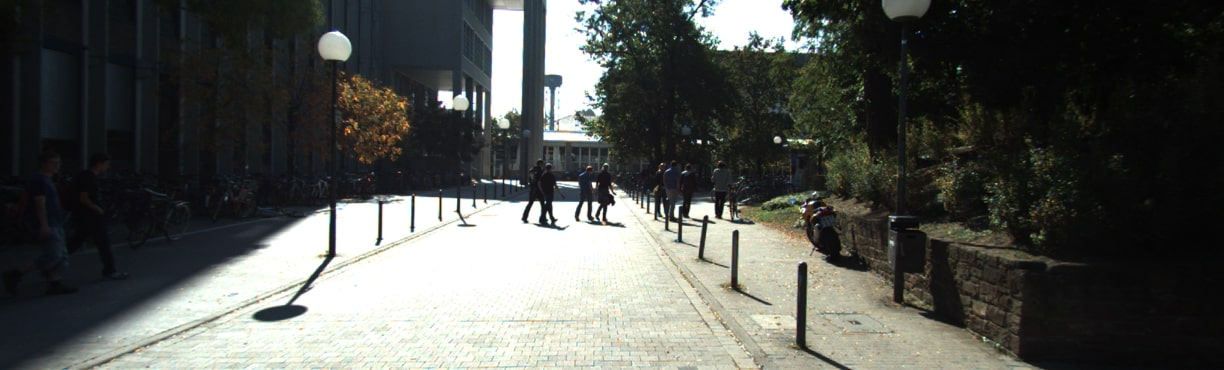Cyclist: (710, 157, 746, 223)
person: (14, 143, 80, 303), (79, 152, 134, 284), (645, 156, 695, 221), (537, 158, 564, 234), (599, 158, 626, 229), (521, 157, 543, 229), (575, 158, 597, 226)
